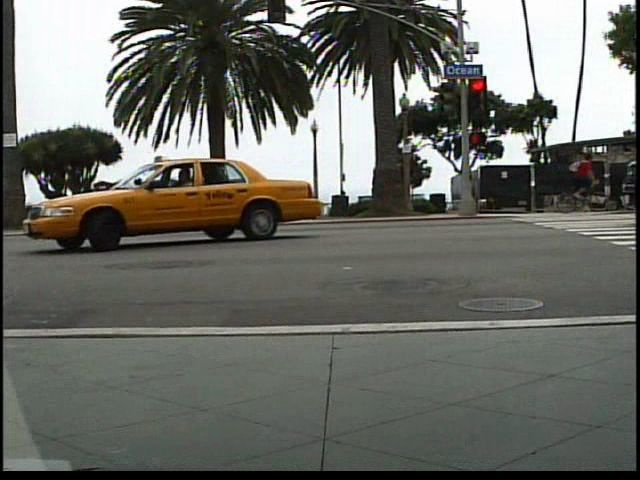person: (564, 152, 594, 204)
